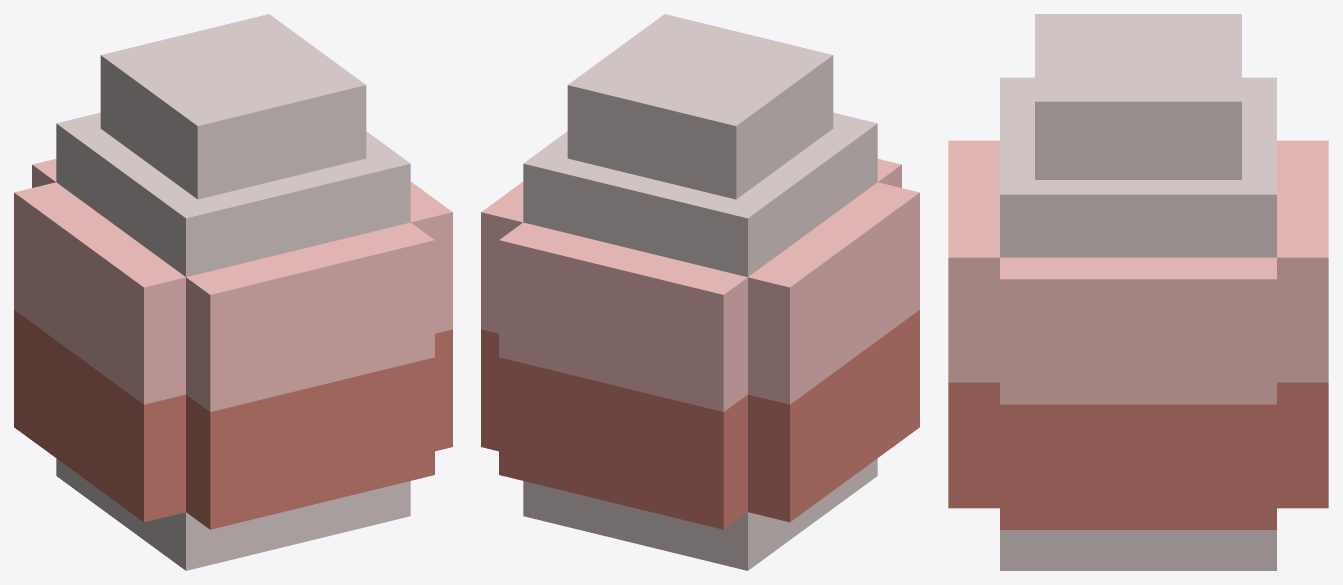
Rendered from egg_therizinosaurus.obj.
The picture shows the model from 3 angles, left to right: view 1: azimuth 30°, elevation 25°; view 2: azimuth 150°, elevation 25°; view 3: azimuth 270°, elevation 25°; orthographic projection. The views are drawn at different scales.
Visible parts, largest first — view 1: egg_therizinosaurus; view 2: egg_therizinosaurus; view 3: egg_therizinosaurus.
Part boxes in pixels (x1,y1,x2,y2): egg_therizinosaurus: (14,14,452,570); egg_therizinosaurus: (481,14,919,570); egg_therizinosaurus: (948,14,1328,570).
Bounding box in the file's own units: 6.65 × 8.76 × 6.64.
